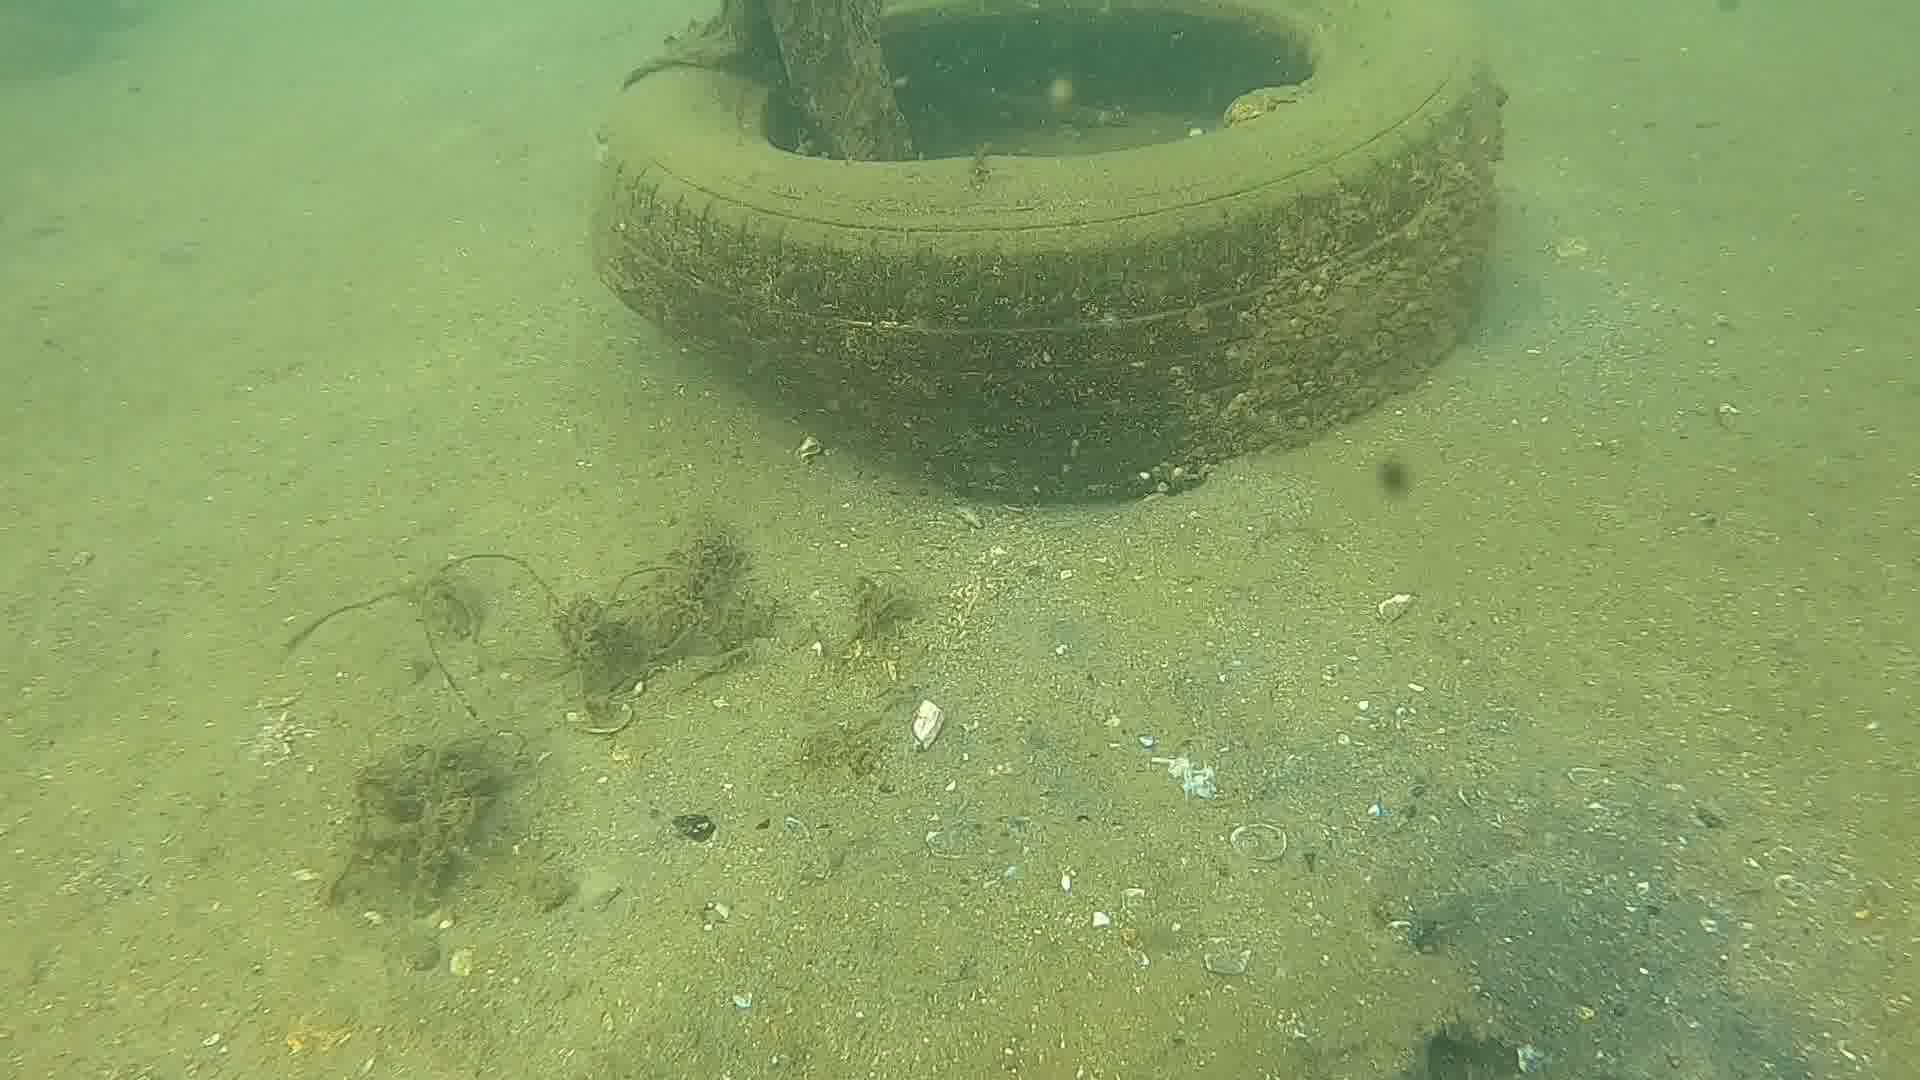tire: (592, 3, 1503, 506)
